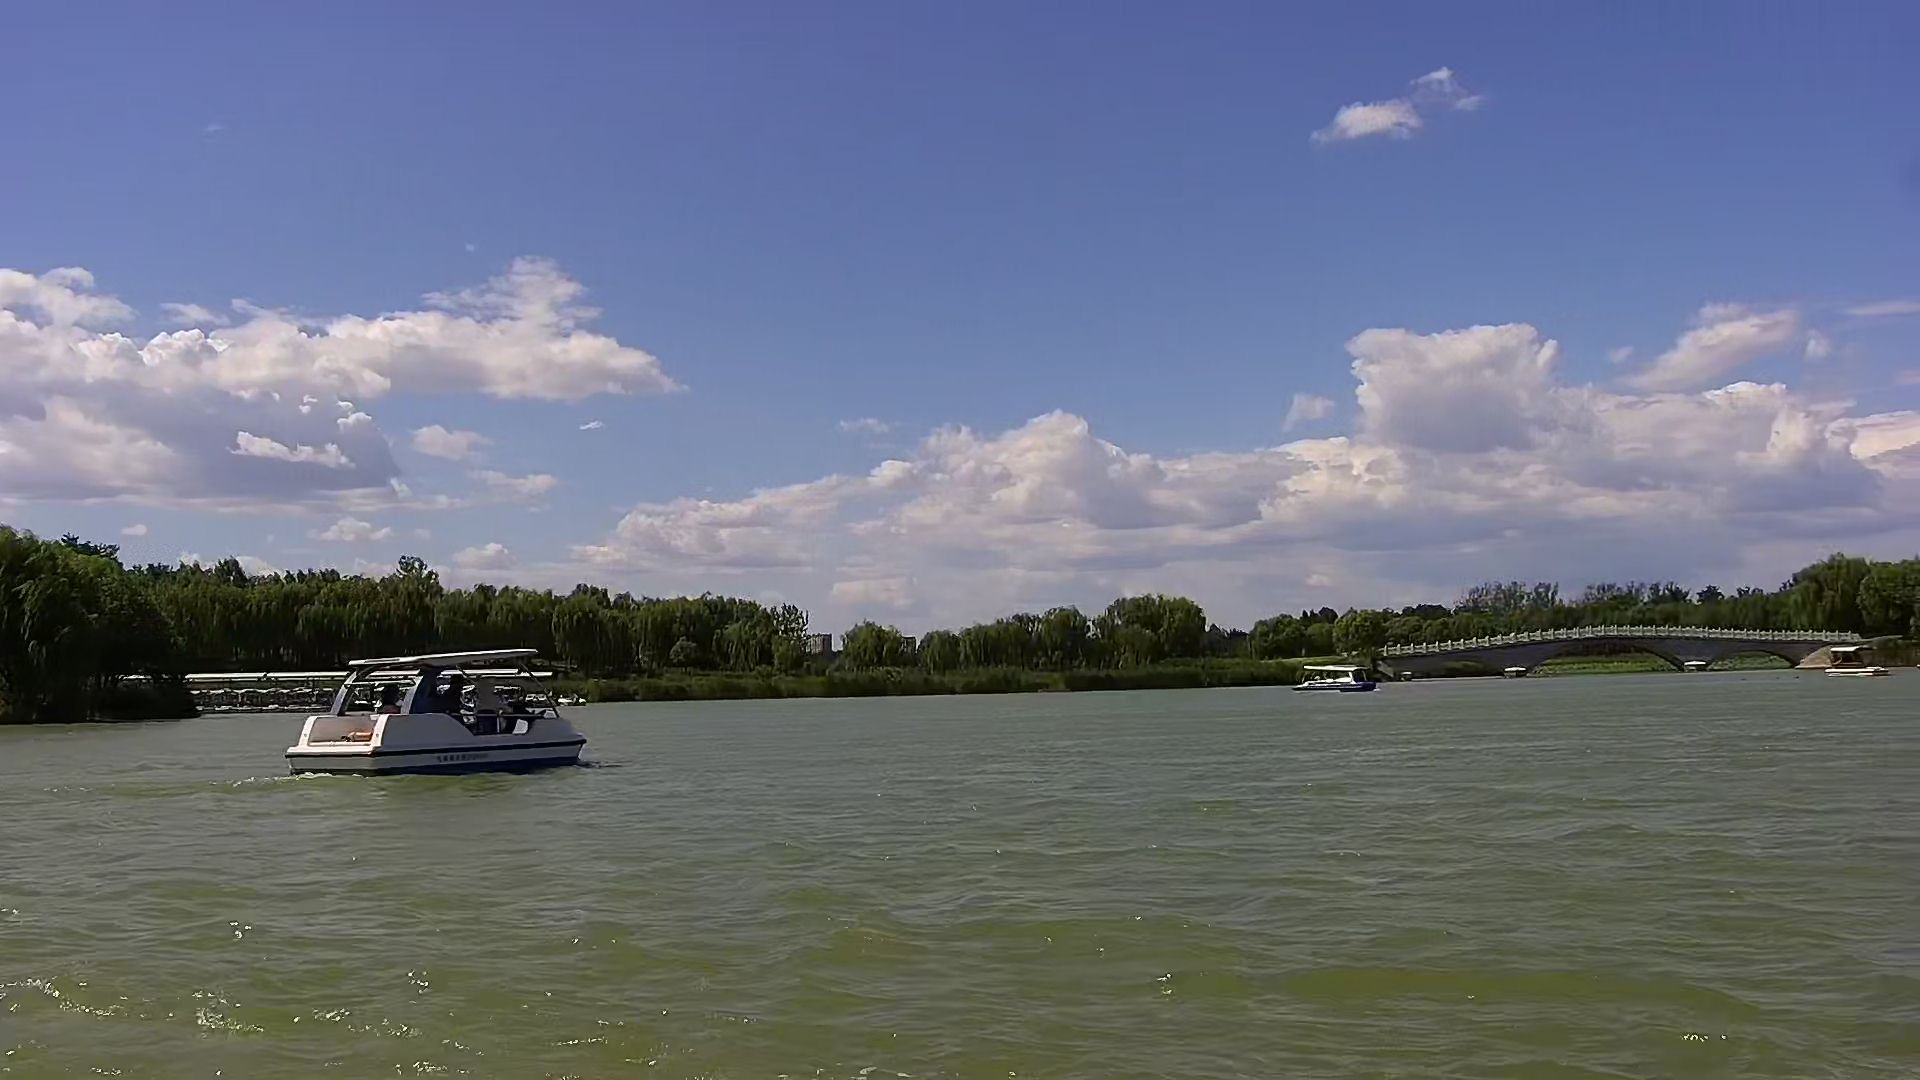boat: (284, 650, 603, 782), (1288, 658, 1377, 699), (1821, 641, 1892, 684)
bridge: (1367, 618, 1876, 678)
harbor: (150, 665, 331, 713)
